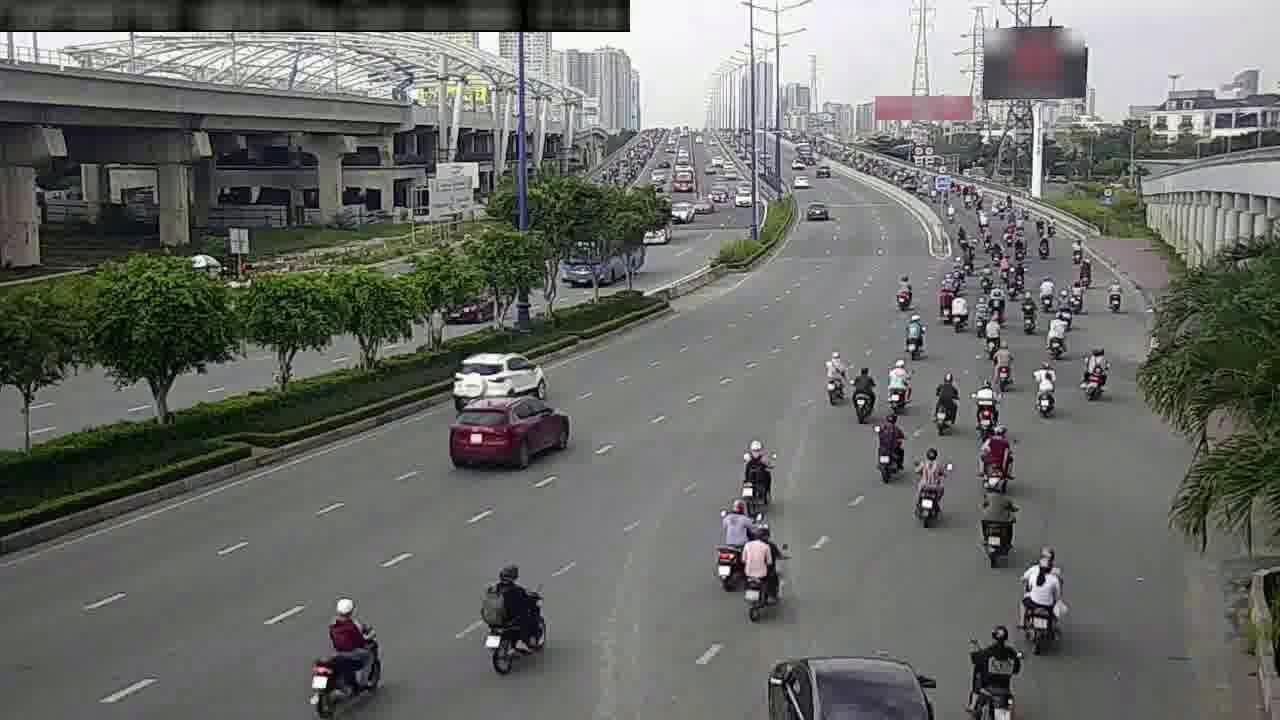car: (453, 387, 575, 465), (449, 341, 541, 407)
motorbike: (479, 559, 552, 670), (313, 593, 388, 701), (1015, 545, 1068, 644), (961, 621, 1023, 704), (736, 532, 788, 617), (703, 505, 753, 584), (972, 483, 1020, 562), (904, 449, 950, 524), (729, 438, 777, 509), (864, 412, 908, 480), (971, 426, 1014, 487), (925, 372, 964, 432), (814, 345, 852, 406), (1026, 362, 1064, 421), (1075, 345, 1113, 403), (966, 375, 1003, 431), (844, 363, 879, 422), (880, 358, 912, 410), (896, 311, 930, 358), (987, 342, 1018, 388), (1099, 272, 1130, 316), (886, 272, 918, 314), (930, 282, 961, 325), (1040, 315, 1070, 359), (947, 292, 976, 334), (1014, 292, 1041, 335), (977, 315, 1005, 356), (1062, 275, 1088, 314), (1034, 273, 1059, 312), (1060, 291, 1075, 326)
